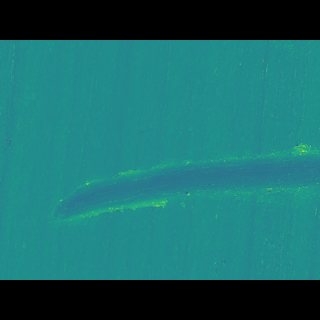Loch: (44, 146, 320, 210)
